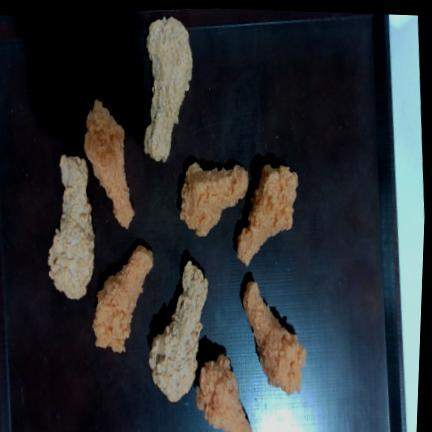chicken: (149, 261, 207, 401), (242, 280, 305, 394), (144, 17, 192, 161), (48, 154, 94, 299), (84, 99, 134, 228), (92, 245, 152, 351), (238, 164, 298, 264), (180, 162, 248, 236), (196, 354, 252, 432)
